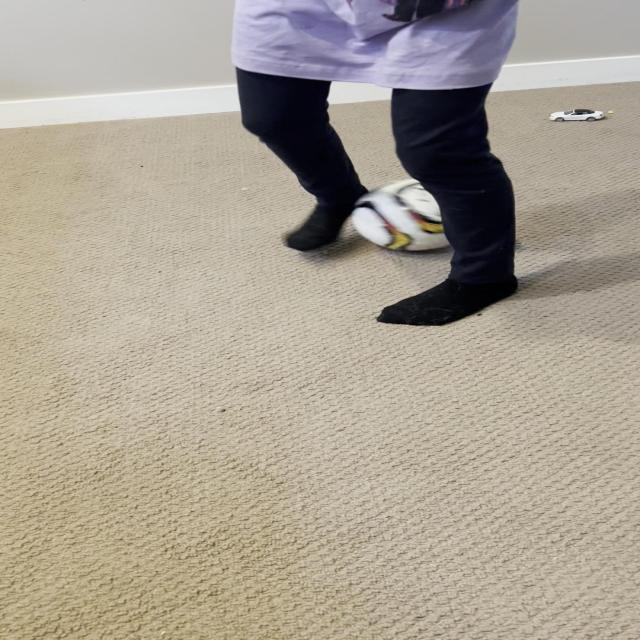Soccer Ball: (352, 178, 482, 252)
